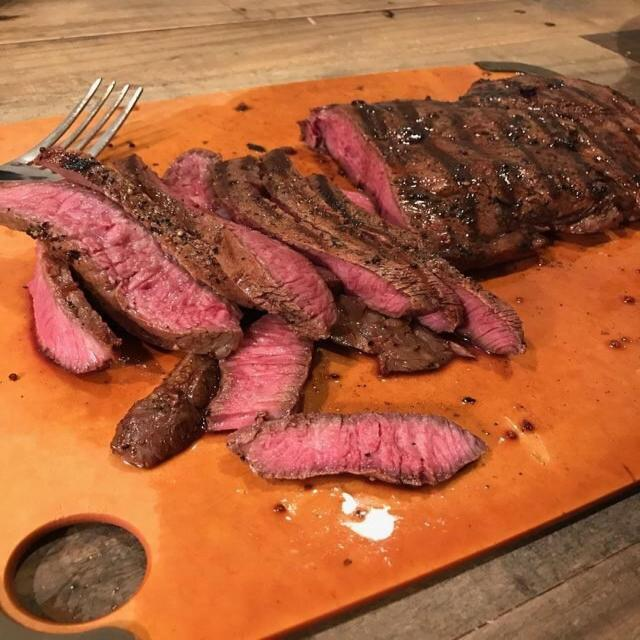beef steak: (300, 74, 639, 267), (36, 148, 333, 338), (251, 152, 521, 347), (0, 181, 241, 357), (309, 175, 523, 347), (214, 154, 437, 317), (228, 413, 486, 485), (205, 315, 312, 432), (111, 356, 219, 468), (28, 246, 119, 373), (331, 294, 458, 374), (448, 277, 524, 354), (162, 149, 218, 212), (418, 310, 459, 332)
